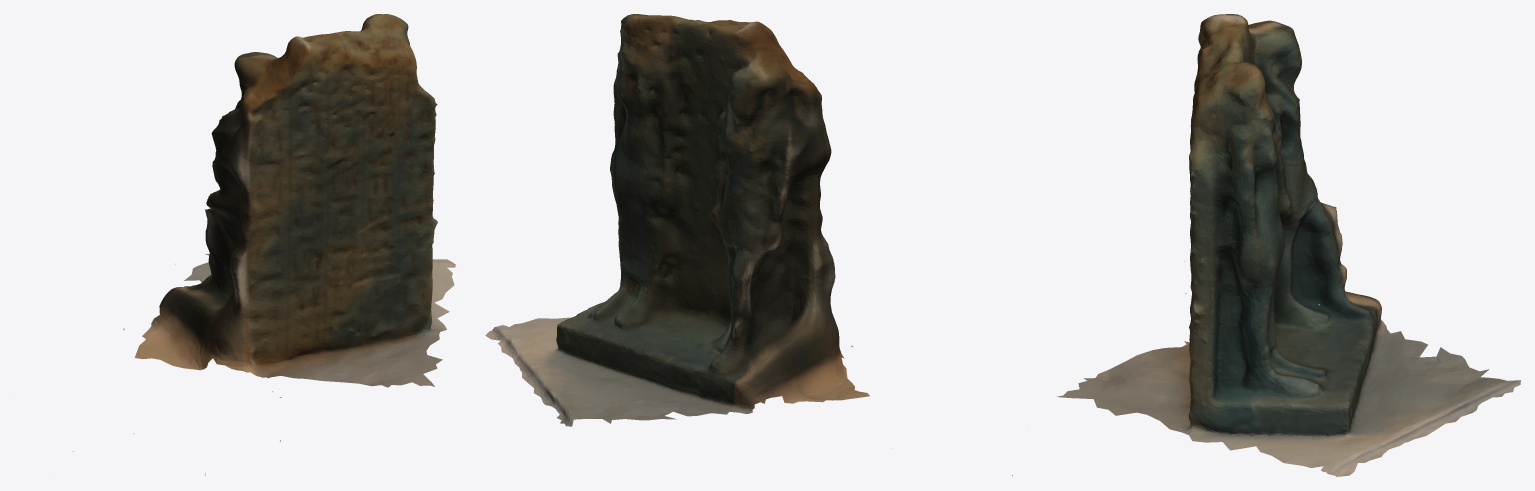
File: Nefertum.fbx
3 renders of one model, left to right at view 1: azimuth 30°, elevation 25°; view 2: azimuth 150°, elevation 25°; view 3: azimuth 270°, elevation 25°, orthographic. The views are drawn at different scales.
Parts seen in each view (by area): view 1: Texture_0; view 2: Texture_0; view 3: Texture_0.
Part boxes in pixels (x1,y1,x2,y2): Texture_0: (134, 14, 455, 387); Texture_0: (485, 14, 869, 426); Texture_0: (1056, 14, 1520, 476).
Bounding box in the file's own units: 1566 × 1257 × 1180.
